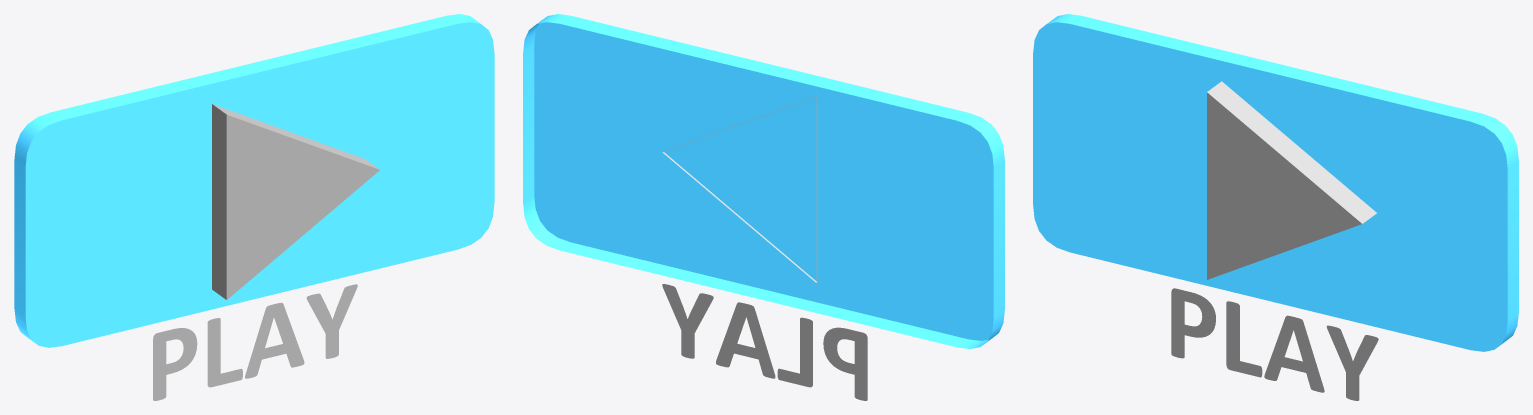
File: PlayButton.glb
3 renders of one model, left to right at view 1: azimuth 30°, elevation 25°; view 2: azimuth 150°, elevation 25°; view 3: azimuth 330°, elevation 25°, orthographic.
Visible parts, largest first — view 1: PlayButton; view 2: PlayButton; view 3: PlayButton.
Boxes of the visible parts, bbox=[...] form: PlayButton: bbox=[14, 14, 494, 400]; PlayButton: bbox=[523, 14, 1004, 400]; PlayButton: bbox=[1033, 14, 1518, 400].
Size of the model in its own units: 0.1541 by 0.0968 by 0.0147.
